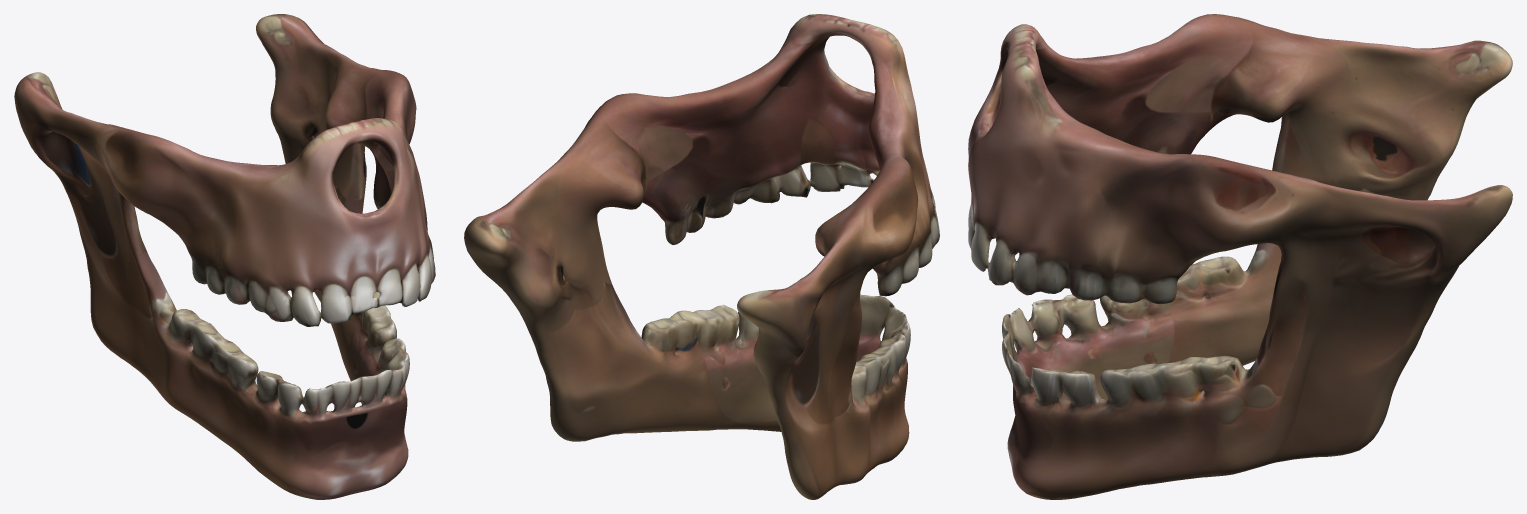
Rendered from mandibula.obj.
3 views of the same model, side by side, from view 1: azimuth 30°, elevation 25°; view 2: azimuth 150°, elevation 25°; view 3: azimuth 270°, elevation 25° (orthographic). The views are drawn at different scales.
Parts seen in each view (by area): view 1: Um_modelo_3D_de_uma_m_1020171221_refine; view 2: Um_modelo_3D_de_uma_m_1020171221_refine; view 3: Um_modelo_3D_de_uma_m_1020171221_refine.
Part boxes in pixels (x1=…): Um_modelo_3D_de_uma_m_1020171221_refine: x1=14, y1=14, x2=435, y2=499; Um_modelo_3D_de_uma_m_1020171221_refine: x1=464, y1=14, x2=939, y2=499; Um_modelo_3D_de_uma_m_1020171221_refine: x1=968, y1=14, x2=1512, y2=499.
Size of the model in its own units: 1.46 by 1.77 by 1.99.
